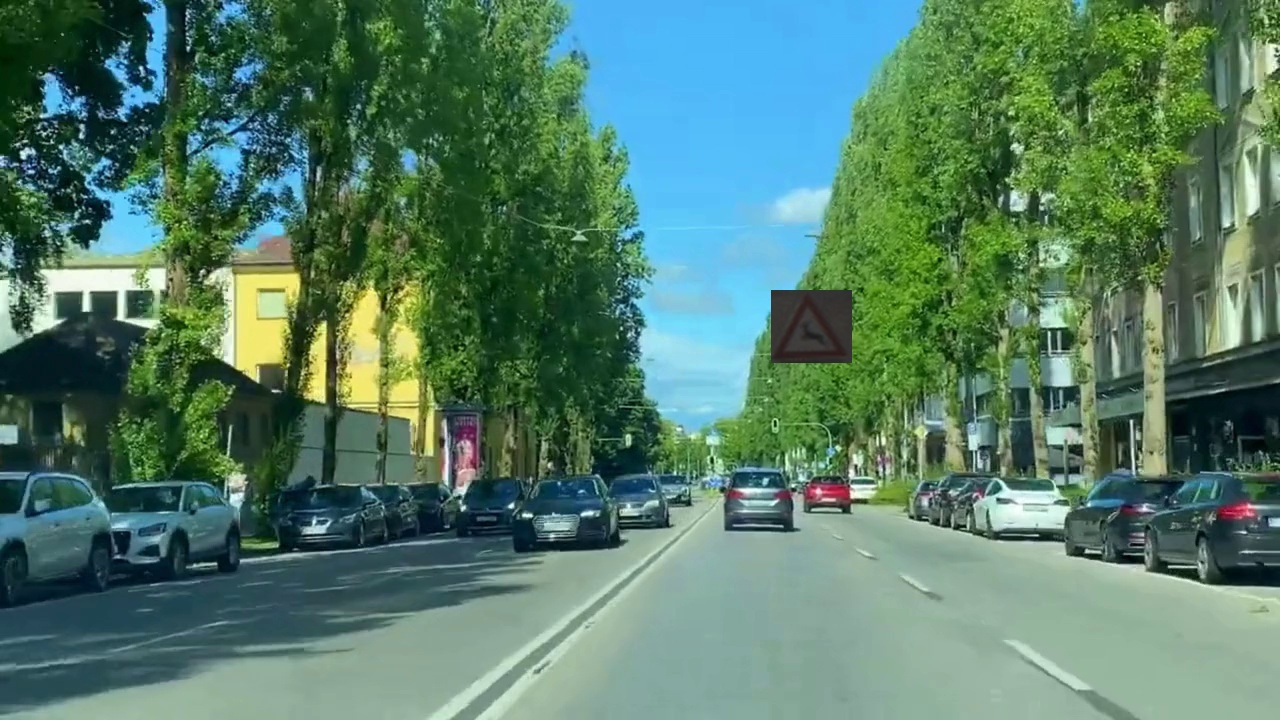Wild animals: (771, 290, 852, 363)
